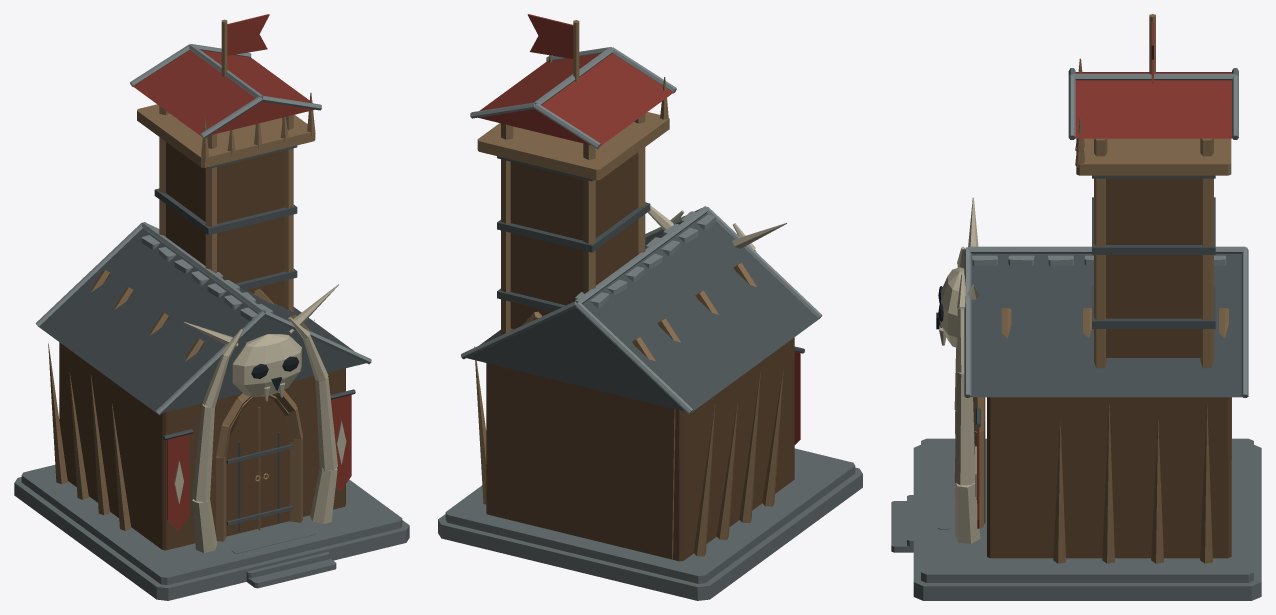
File: outlaws.glb
The picture shows the model from 3 angles, left to right: view 1: azimuth 30°, elevation 25°; view 2: azimuth 150°, elevation 25°; view 3: azimuth 270°, elevation 25°; orthographic projection. The views are drawn at different scales.
Visible parts, largest first — view 1: VIL_OUTLAWS_CHAPEL; view 2: VIL_OUTLAWS_CHAPEL; view 3: VIL_OUTLAWS_CHAPEL.
Part boxes in pixels (<box>): VIL_OUTLAWS_CHAPEL: <box>14,14,409,600</box>; VIL_OUTLAWS_CHAPEL: <box>438,14,862,600</box>; VIL_OUTLAWS_CHAPEL: <box>891,14,1261,600</box>.
Bounding box in the file's own units: 6.2 × 10.96 × 6.81.
